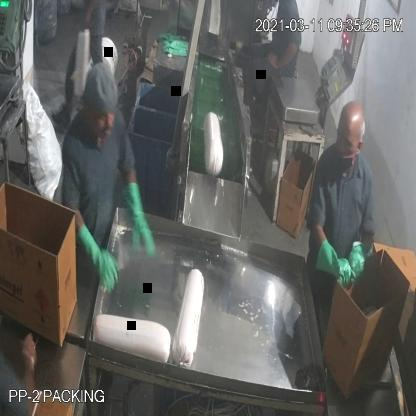glove: (78, 215, 122, 296), (120, 178, 160, 266), (314, 228, 356, 294)
no_glove: (12, 320, 53, 406), (268, 39, 298, 75)
